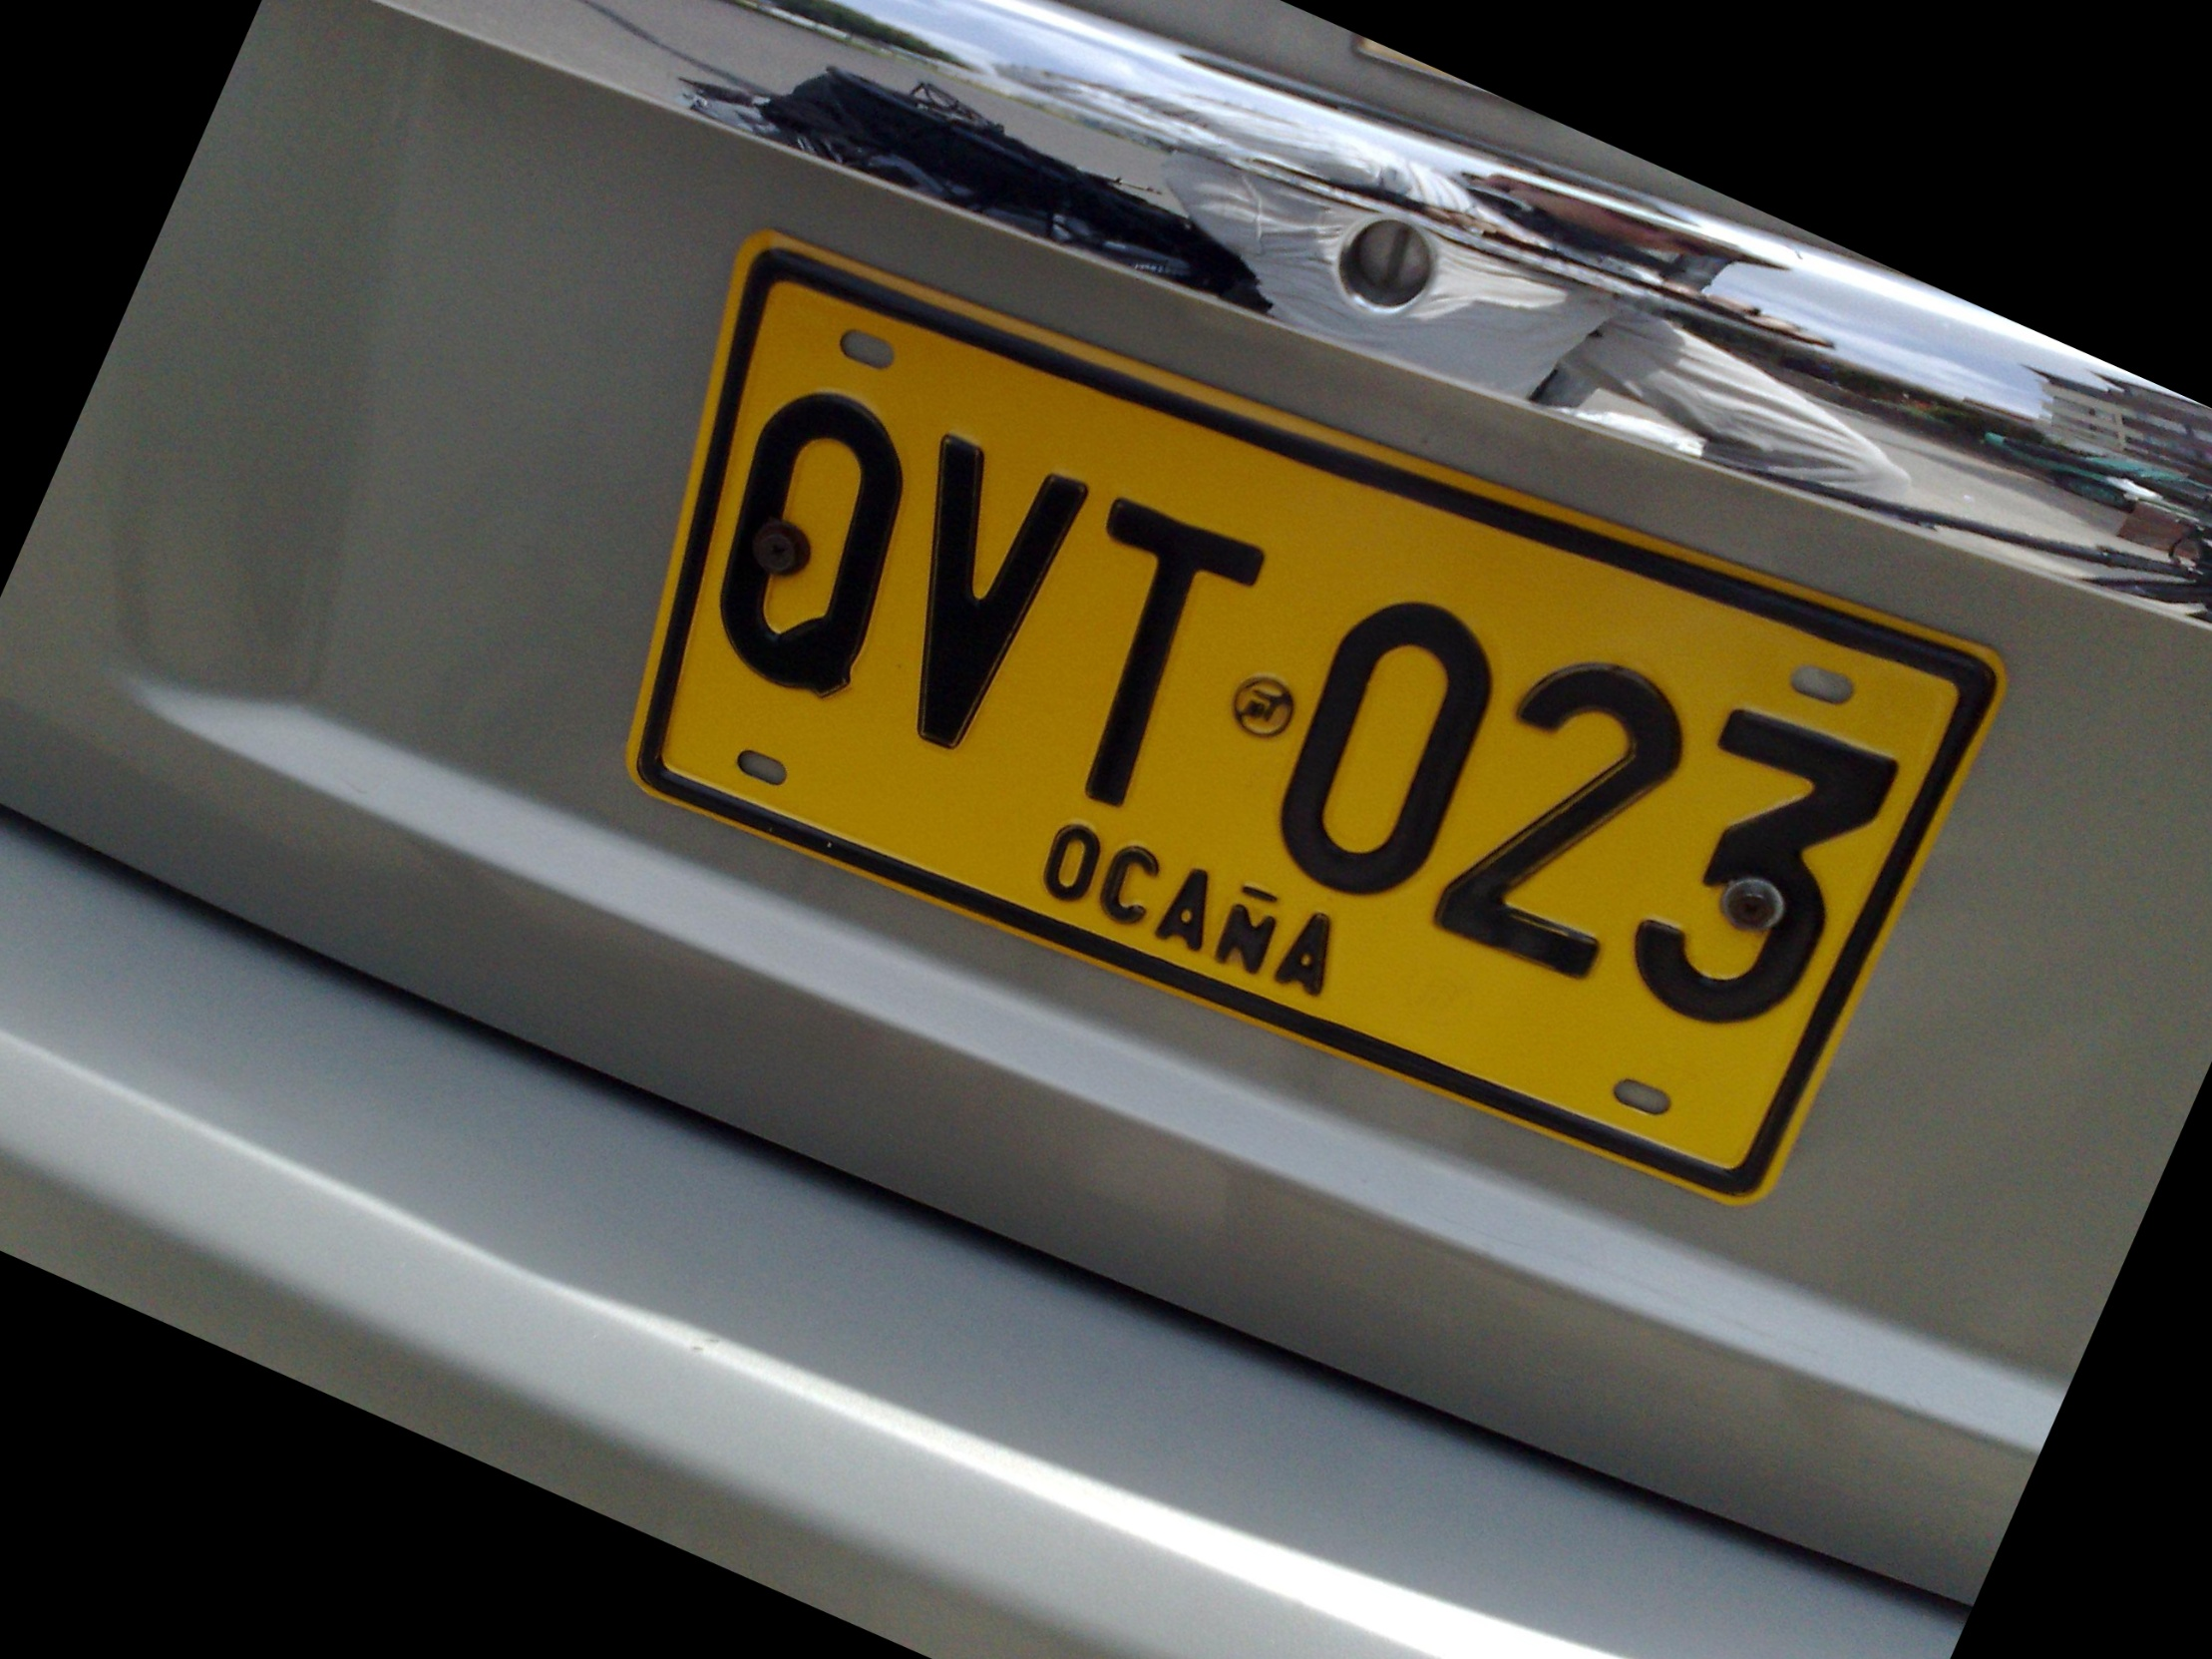placas: (515, 113, 2031, 1285)
